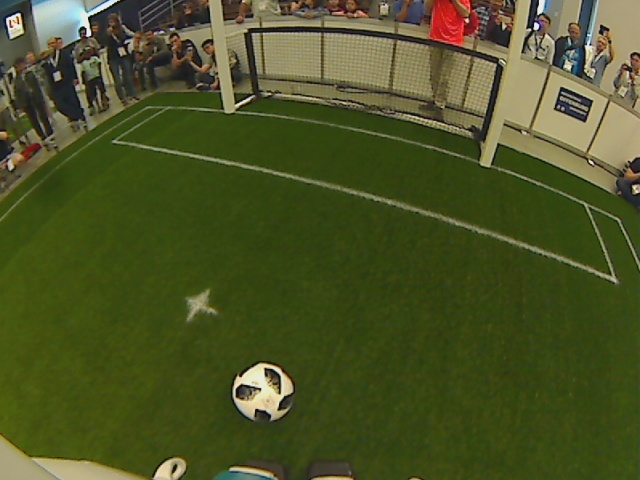ball: (229, 361, 297, 424)
goalpost: (471, 145, 500, 181), (216, 90, 240, 124)
